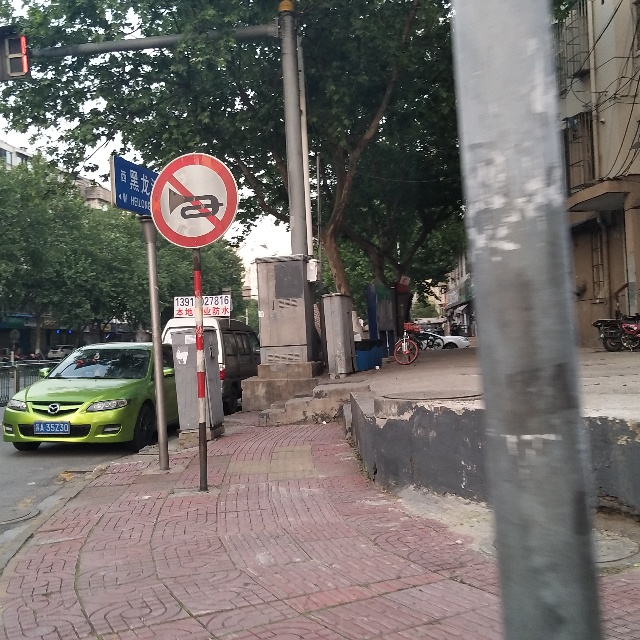nohonk: (153, 159, 233, 234)
